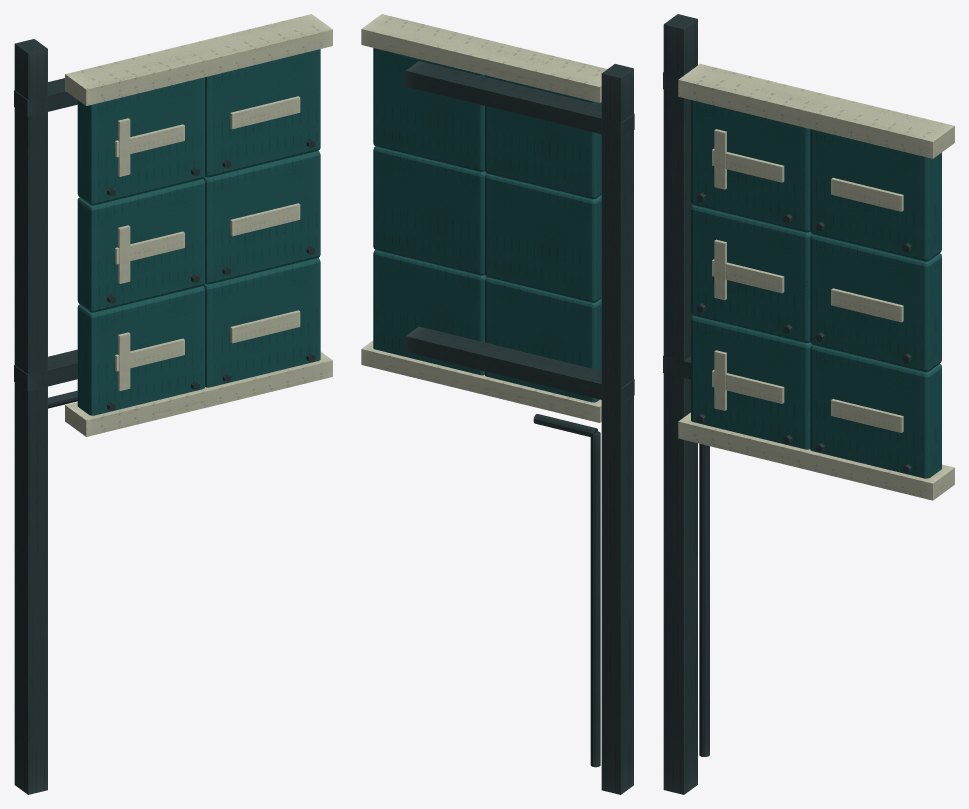
File: blade_sign.fbx
The picture shows the model from 3 angles, left to right: view 1: azimuth 30°, elevation 25°; view 2: azimuth 150°, elevation 25°; view 3: azimuth 330°, elevation 25°; orthographic projection. The views are drawn at different scales.
Visible parts, largest first — view 1: blade_sign__post, blade_sign__enamel_panel.002, blade_sign__enamel_panel, blade_sign__enamel_panel.003, blade_sign__enamel_panel.004, blade_sign__enamel_panel.001, blade_sign__enamel_panel.005, blade_sign__top_moulding, blade_sign__bottom_moulding, blade_sign__bracket, blade_sign__bracket.001, blade_sign__glyph.001 (+8 smaller); view 2: blade_sign__post, blade_sign__enamel_panel.002, blade_sign__enamel_panel.003, blade_sign__enamel_panel.001, blade_sign__enamel_panel.005, blade_sign__top_moulding, blade_sign__enamel_panel, blade_sign__enamel_panel.004, blade_sign__bracket.001, blade_sign__bracket, blade_sign__bottom_moulding, blade_sign__power_conduit (+1 smaller); view 3: blade_sign__post, blade_sign__enamel_panel.003, blade_sign__enamel_panel.001, blade_sign__enamel_panel.005, blade_sign__enamel_panel.002, blade_sign__enamel_panel, blade_sign__enamel_panel.004, blade_sign__top_moulding, blade_sign__bottom_moulding, blade_sign__power_conduit, blade_sign__glyph.005, blade_sign__glyph.001 (+7 smaller).
Boxes of the visible parts, x1=… form: blade_sign__post: x1=14, y1=39, x2=47, y2=794; blade_sign__enamel_panel.002: x1=77, y1=179, x2=204, y2=312; blade_sign__enamel_panel: x1=77, y1=286, x2=204, y2=415; blade_sign__enamel_panel.003: x1=203, y1=150, x2=320, y2=284; blade_sign__enamel_panel.004: x1=77, y1=77, x2=204, y2=205; blade_sign__enamel_panel.001: x1=203, y1=258, x2=320, y2=387; blade_sign__enamel_panel.005: x1=205, y1=49, x2=320, y2=177; blade_sign__top_moulding: x1=65, y1=14, x2=332, y2=105; blade_sign__bottom_moulding: x1=65, y1=352, x2=332, y2=436; blade_sign__bracket: x1=14, y1=349, x2=77, y2=391; blade_sign__bracket.001: x1=14, y1=78, x2=77, y2=116; blade_sign__glyph.001: x1=230, y1=310, x2=300, y2=343; blade_sign__post: x1=601, y1=64, x2=633, y2=794; blade_sign__enamel_panel.002: x1=485, y1=173, x2=601, y2=302; blade_sign__enamel_panel.003: x1=373, y1=146, x2=486, y2=275; blade_sign__enamel_panel.001: x1=373, y1=250, x2=486, y2=375; blade_sign__enamel_panel.005: x1=373, y1=48, x2=484, y2=171; blade_sign__top_moulding: x1=361, y1=14, x2=607, y2=102; blade_sign__enamel_panel: x1=485, y1=277, x2=601, y2=402; blade_sign__enamel_panel.004: x1=485, y1=75, x2=601, y2=199; blade_sign__bracket.001: x1=405, y1=61, x2=634, y2=139; blade_sign__bracket: x1=405, y1=326, x2=634, y2=404; blade_sign__bottom_moulding: x1=361, y1=340, x2=601, y2=422; blade_sign__power_conduit: x1=590, y1=431, x2=600, y2=767; blade_sign__post: x1=663, y1=14, x2=697, y2=794; blade_sign__enamel_panel.003: x1=810, y1=234, x2=941, y2=372; blade_sign__enamel_panel.001: x1=810, y1=344, x2=941, y2=478; blade_sign__enamel_panel.005: x1=810, y1=129, x2=941, y2=261; blade_sign__enamel_panel.002: x1=691, y1=205, x2=811, y2=342; blade_sign__enamel_panel: x1=691, y1=315, x2=812, y2=449; blade_sign__enamel_panel.004: x1=691, y1=100, x2=810, y2=232; blade_sign__top_moulding: x1=678, y1=63, x2=954, y2=158; blade_sign__bottom_moulding: x1=678, y1=412, x2=954, y2=500; blade_sign__power_conduit: x1=699, y1=443, x2=709, y2=756; blade_sign__glyph.005: x1=831, y1=177, x2=903, y2=211; blade_sign__glyph.001: x1=831, y1=399, x2=903, y2=432.
Bounding box in the file's own units: 216 × 540 × 58.2.
3 materials, 3 textured.
